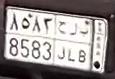3: (42, 17, 53, 61)
5: (20, 17, 31, 58)
8: (31, 16, 43, 59), (9, 13, 19, 56)
B: (78, 27, 89, 63)
J: (56, 21, 67, 60)
L: (67, 23, 78, 62)
